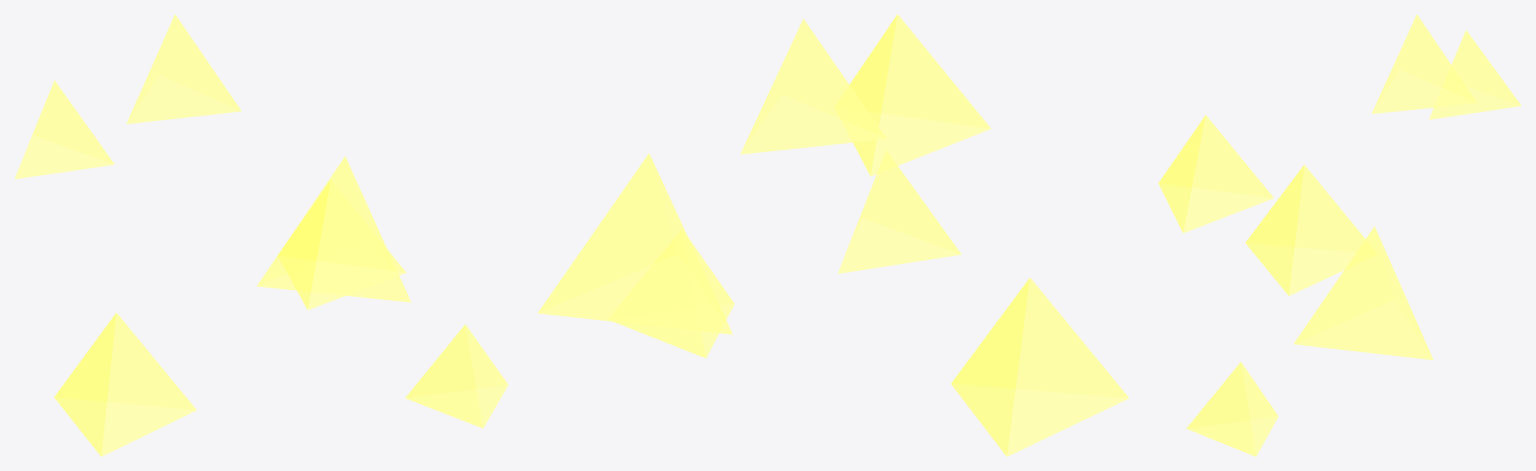
File: data-shards.glb
The picture shows the model from 3 angles, left to right: view 1: azimuth 30°, elevation 25°; view 2: azimuth 150°, elevation 25°; view 3: azimuth 270°, elevation 25°; orthographic projection. The views are drawn at different scales.
Visible parts, largest first — view 1: DataShardCluster; view 2: DataShardCluster; view 3: DataShardCluster.
Boxes of the visible parts, left/top/right/bottom form: DataShardCluster: left=14, top=14, right=508, bottom=456; DataShardCluster: left=538, top=14, right=1129, bottom=456; DataShardCluster: left=1158, top=14, right=1521, bottom=456.
Bounding box in the file's own units: 0.6181 × 0.5236 × 0.5165.
